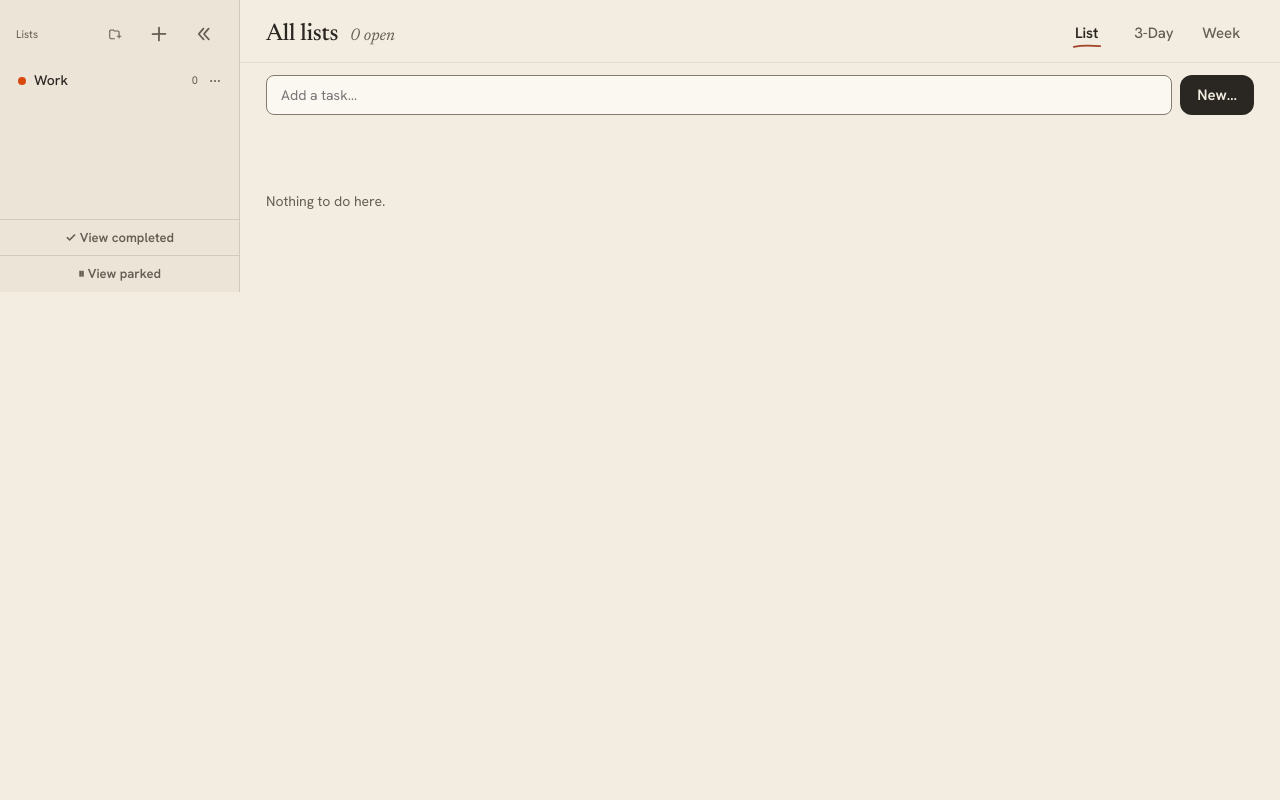
<TasksView> creating › creates from the single-task form with its properties
Type "with props" into the field with placeholder "Add a task…".
click(719, 95); type("with props")  # box [266,75,1172,115]
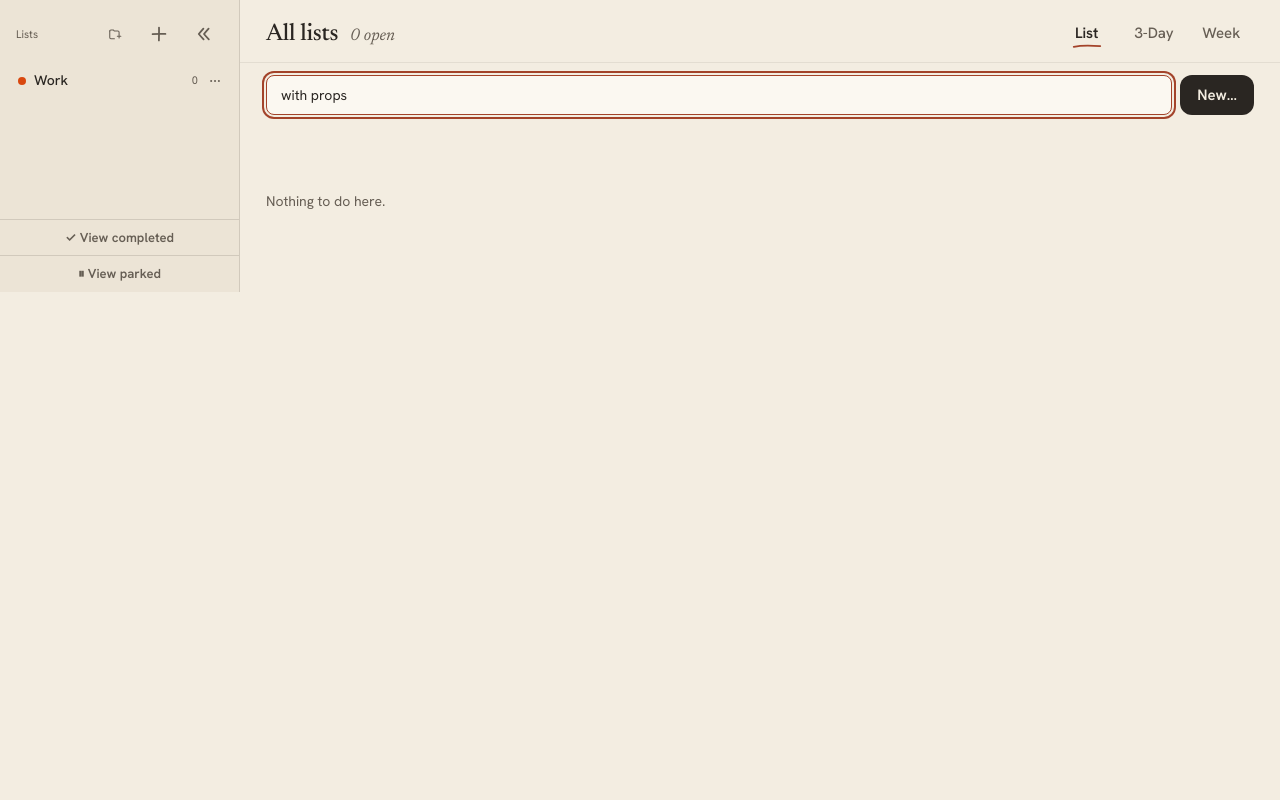
Click the button "New…".
click(1217, 95)  # box [1180,75,1254,115]
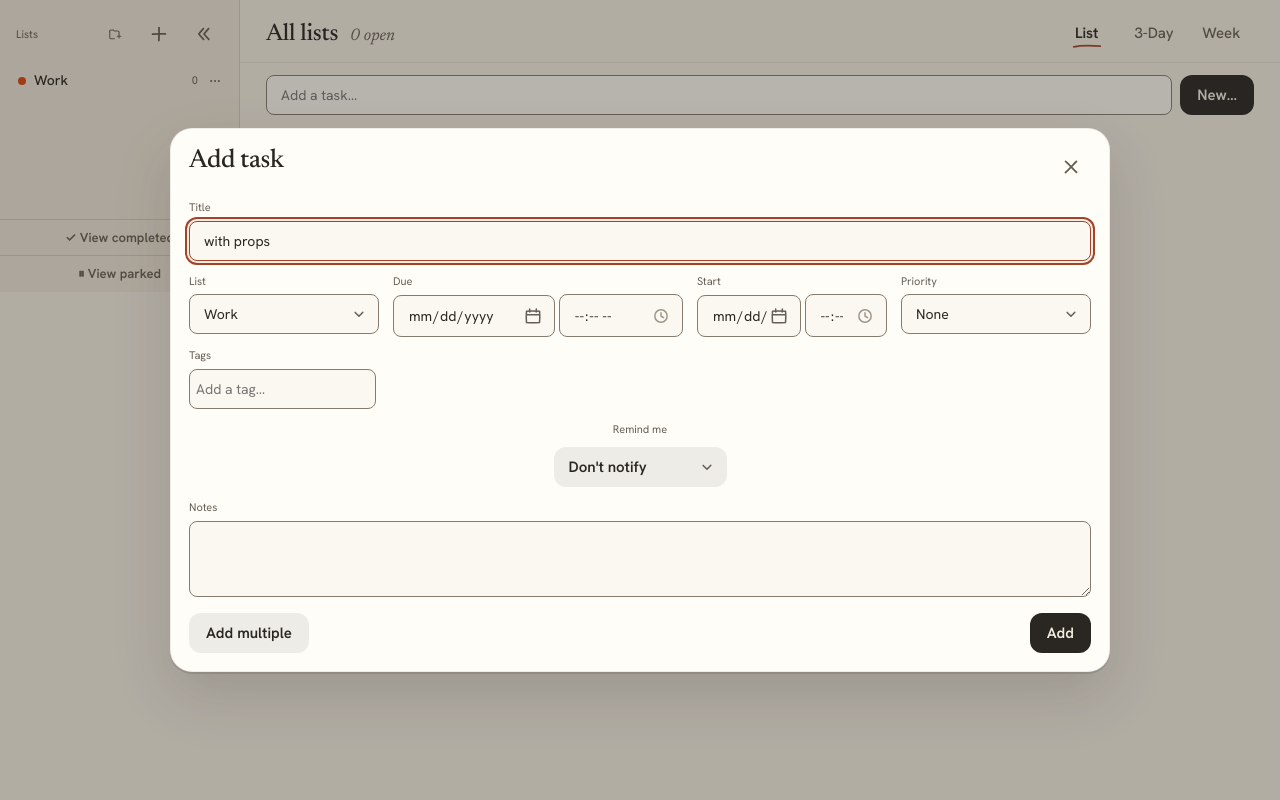
Select "High" in the dropdown named "Priority" at (996, 314), box [901,294,1091,334]
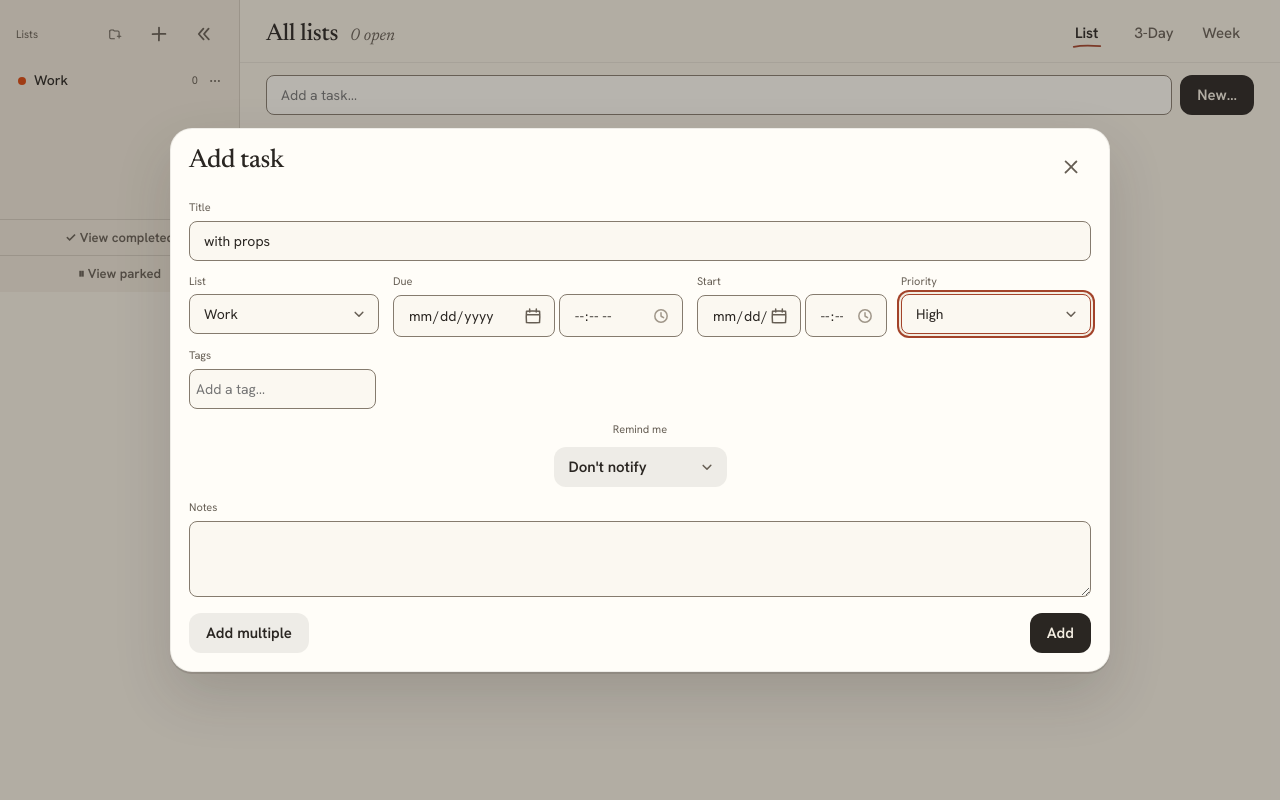
Type "2026-08-10" into the date field named "Due date".
click(474, 316); type("2026-08-10")  # box [393,295,555,337]
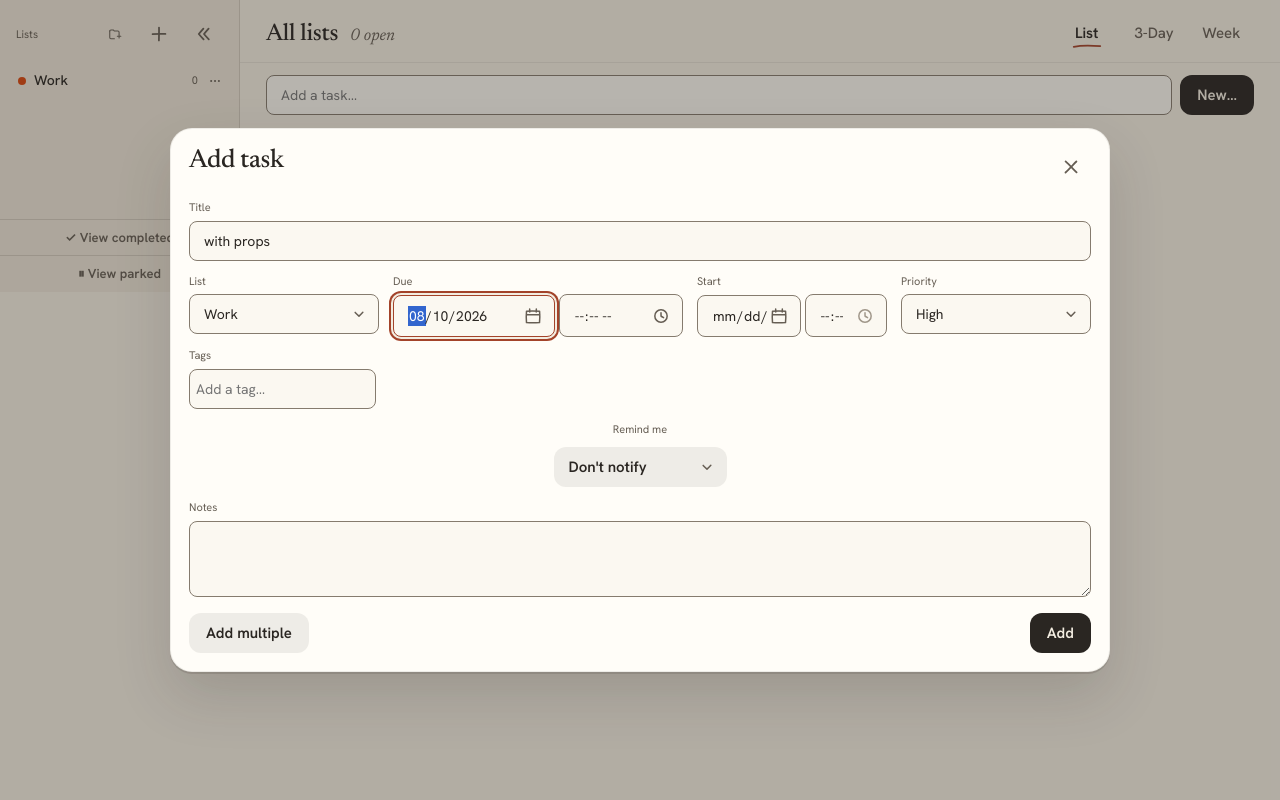
Type "a, b" into the field named "Tags".
click(282, 389); type("a, b")  # box [196,378,369,400]
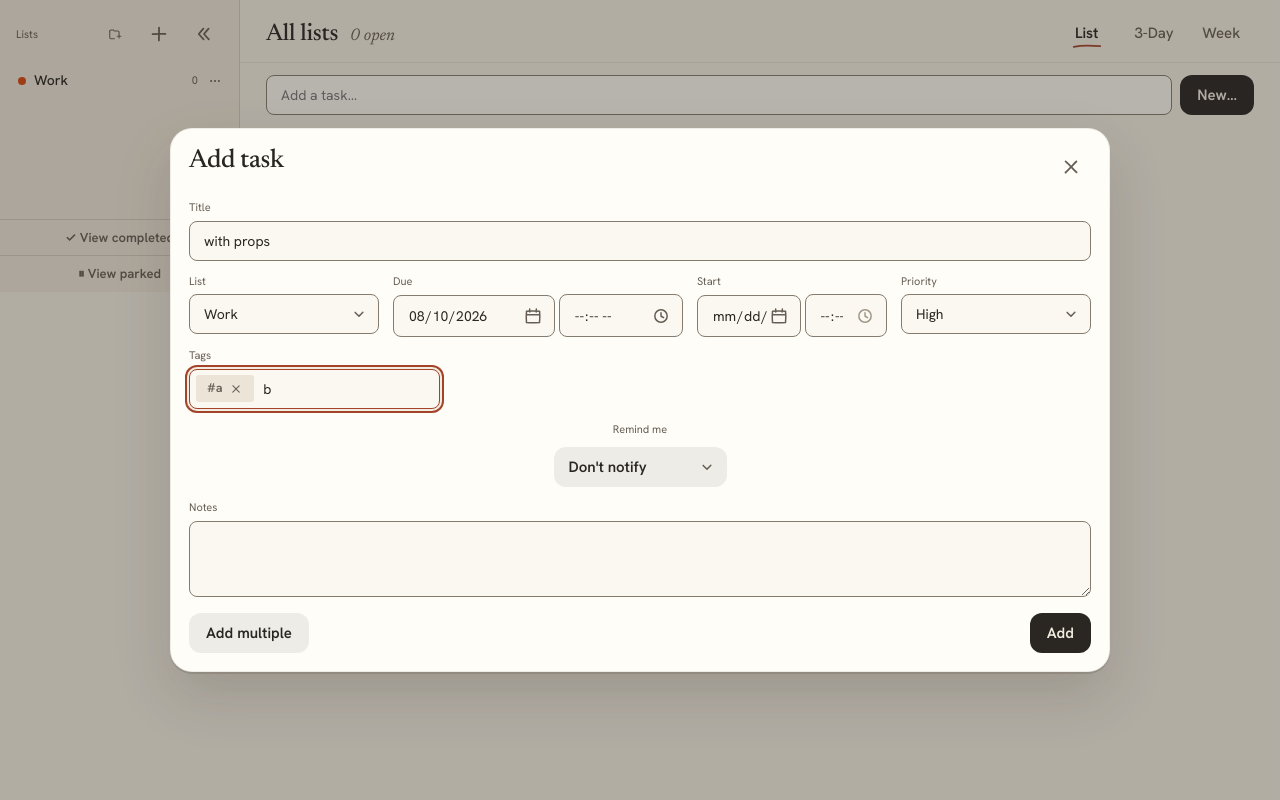
Click the button "Add".
click(1060, 633)  # box [1030,613,1091,653]
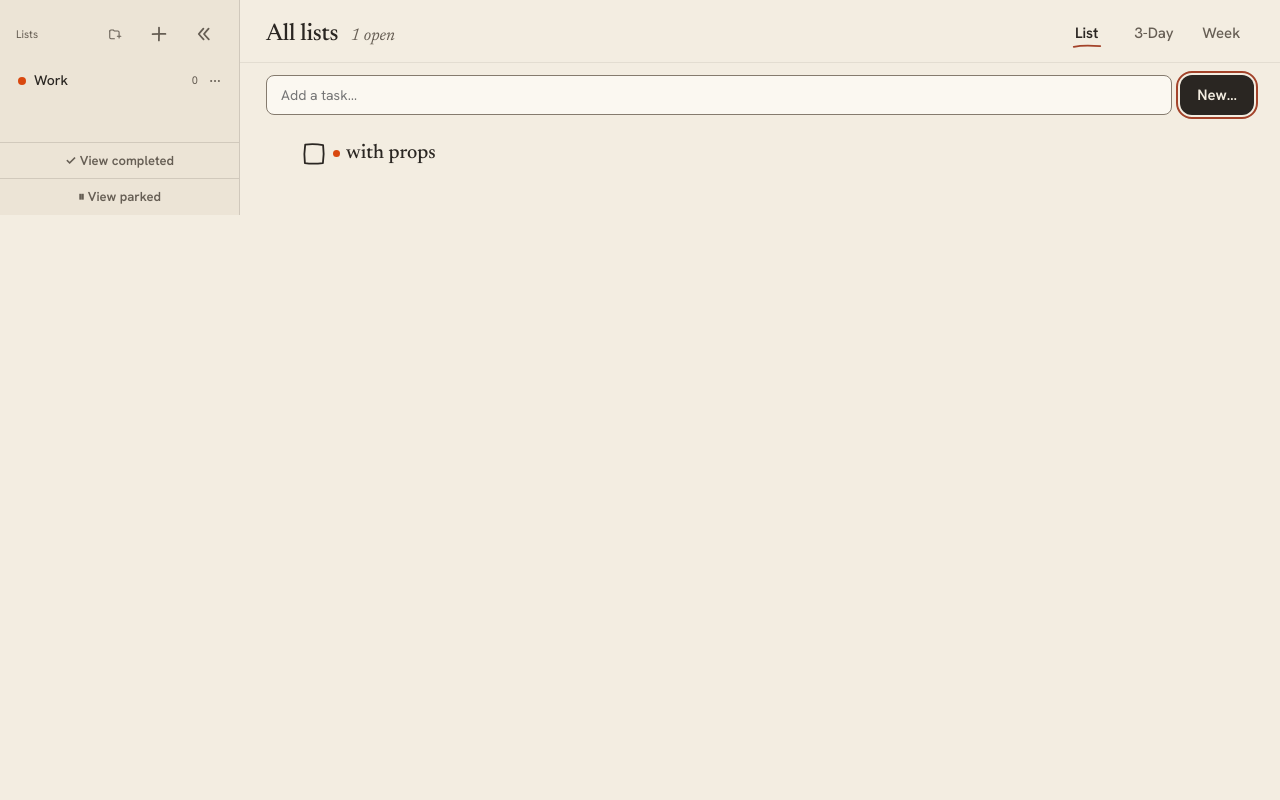
Check: the dialog is gone
